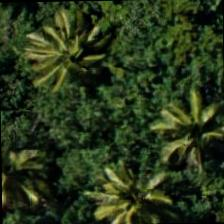Kelapa_Sawit: (18, 0, 109, 80), (88, 148, 180, 223), (148, 98, 223, 190), (0, 126, 66, 217)
